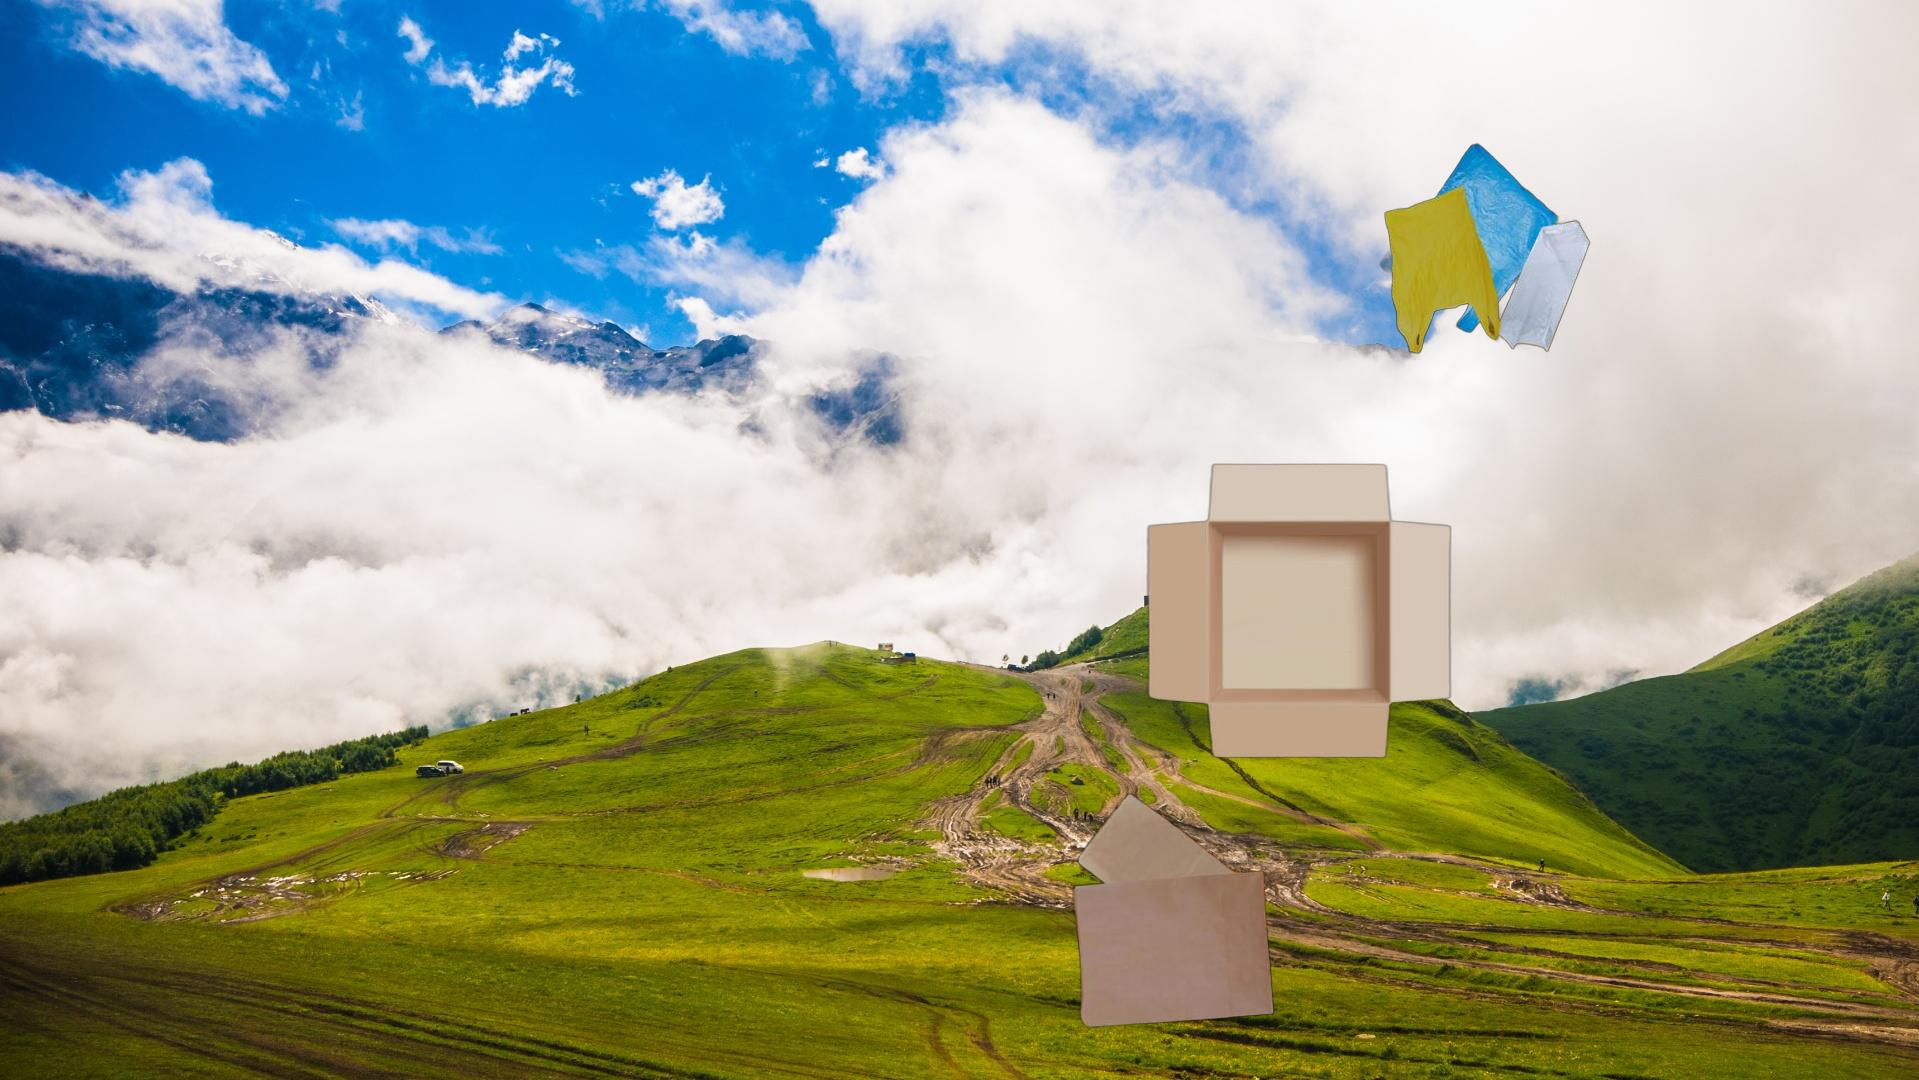paper-bag: (1069, 783, 1277, 1030)
plastic-bag: (1379, 142, 1593, 357)
trashbox-cardboard: (1476, 640, 1919, 1080), (1141, 460, 1456, 761)
